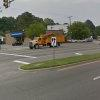Tree: (66, 15, 100, 45)
